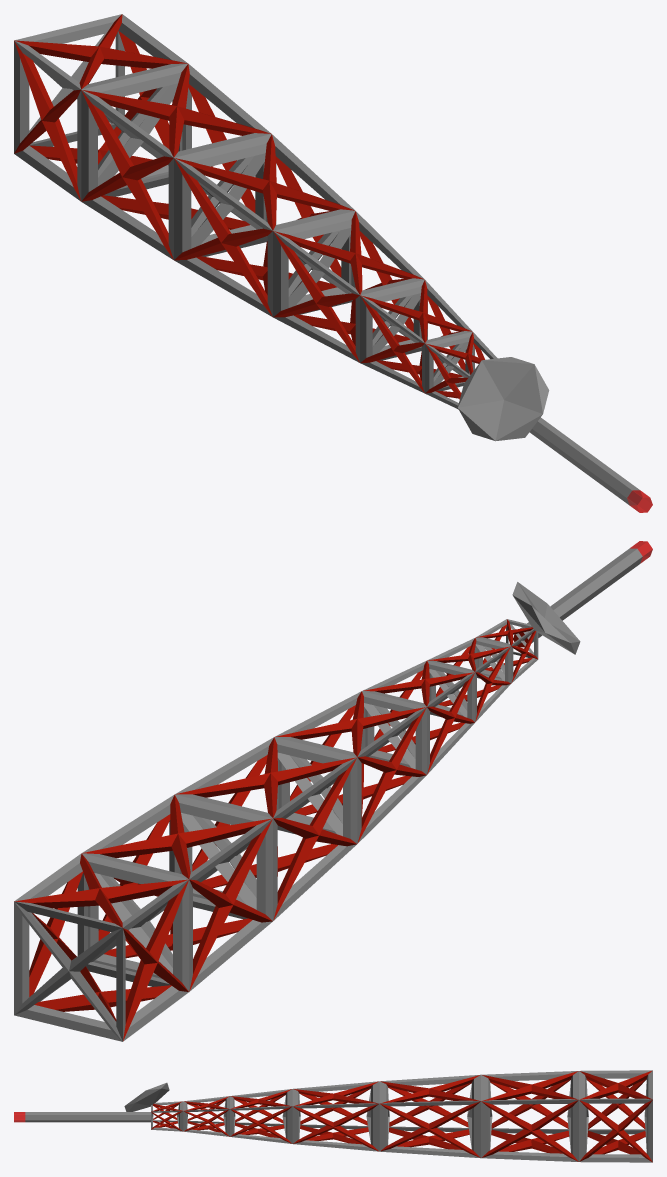
File: RadioTower.fbx
3 views of the same model, one above another, from view 1: azimuth 30°, elevation 25°; view 2: azimuth 150°, elevation 25°; view 3: azimuth 270°, elevation 25° (orthographic). The views are drawn at different scales.
Parts seen in each view (by area): view 1: Radio Tower; view 2: Radio Tower; view 3: Radio Tower.
Boxes of the visible parts, box(x1,y1,x2,y2) form: Radio Tower: box(14, 14, 652, 512); Radio Tower: box(14, 541, 652, 1041); Radio Tower: box(14, 1070, 652, 1162).
Bounding box in the file's own units: 388 × 388 × 3348.
